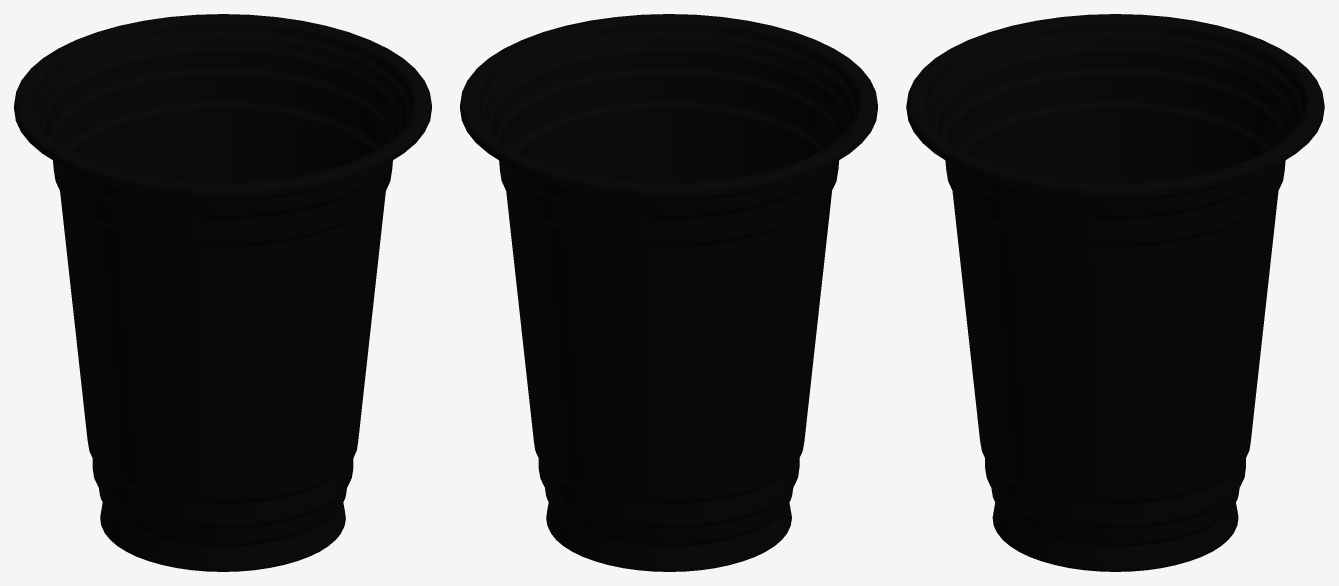
3 renders of one model, left to right at view 1: azimuth 30°, elevation 25°; view 2: azimuth 150°, elevation 25°; view 3: azimuth 270°, elevation 25°, orthographic.
Parts seen in each view (by area): view 1: models; view 2: models; view 3: models.
Boxes of the visible parts, <box> form: models: <box>14,14,431,571</box>; models: <box>460,14,877,571</box>; models: <box>906,14,1324,571</box>.
Bounding box in the file's own units: 0.092 × 0.102 × 0.092.
Materials: 1 (1 with a texture image).
